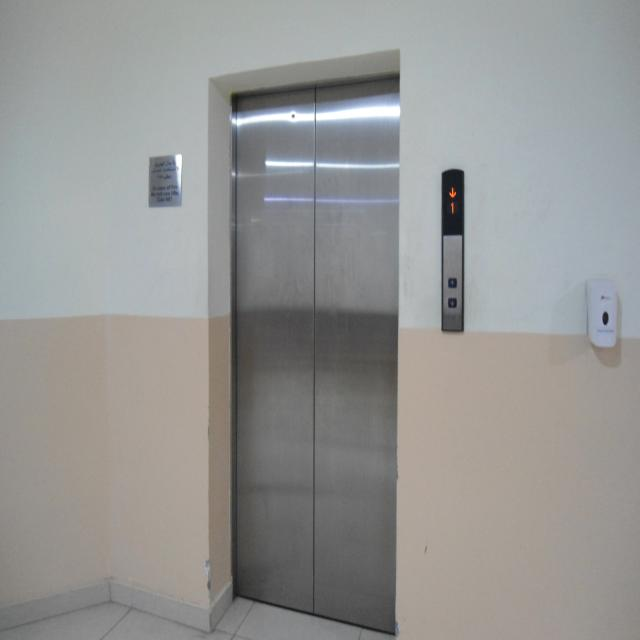lift: (218, 48, 399, 640)
liftbutton: (439, 164, 469, 338)
obstacle: (586, 276, 619, 361)
wall: (107, 3, 640, 639), (2, 1, 108, 632)
